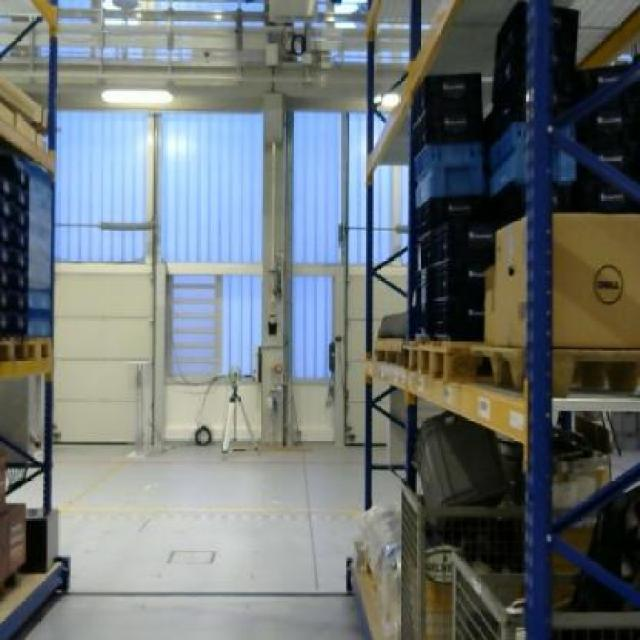box: (494, 210, 636, 350)
